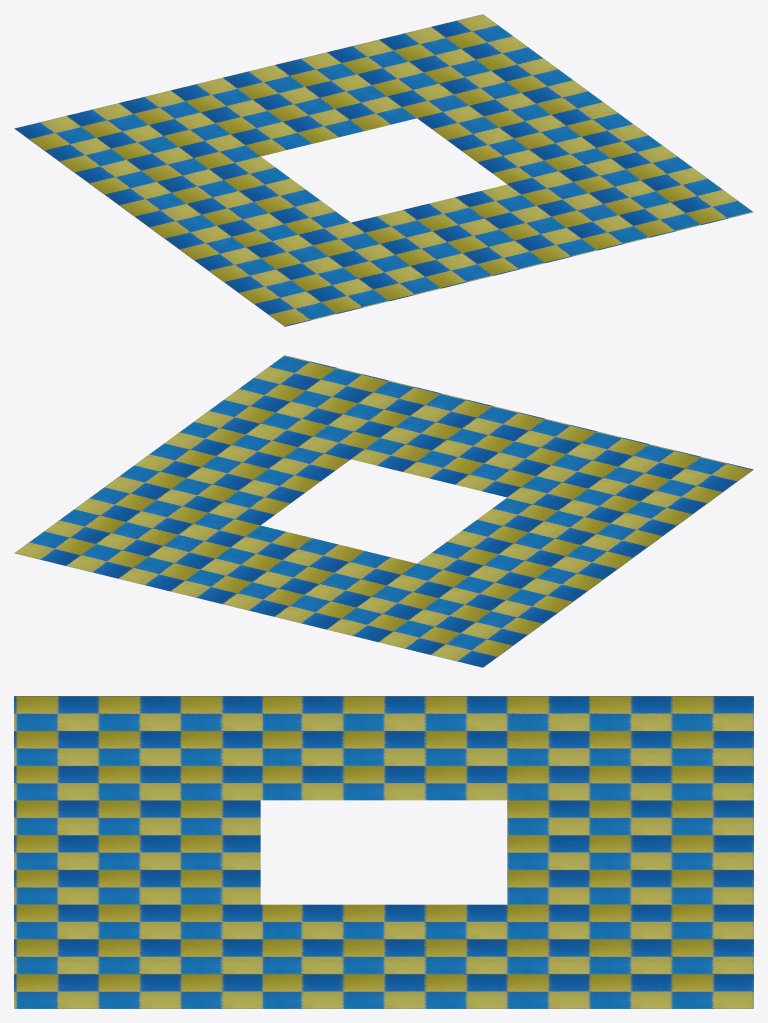
3 renders of one model, top to bottom at view 1: azimuth 30°, elevation 25°; view 2: azimuth 150°, elevation 25°; view 3: azimuth 270°, elevation 25°, orthographic. The views are drawn at different scales.
Parts seen in each view (by area): view 1: 平面; view 2: 平面; view 3: 平面.
Boxes of the visible parts, <box> form: 平面: <box>14,14,753,326</box>; 平面: <box>14,355,753,667</box>; 平面: <box>14,696,753,1008</box>.
Size of the model in its own units: 18 by 18 by 0.
Materials: 1 (1 with a texture image).
